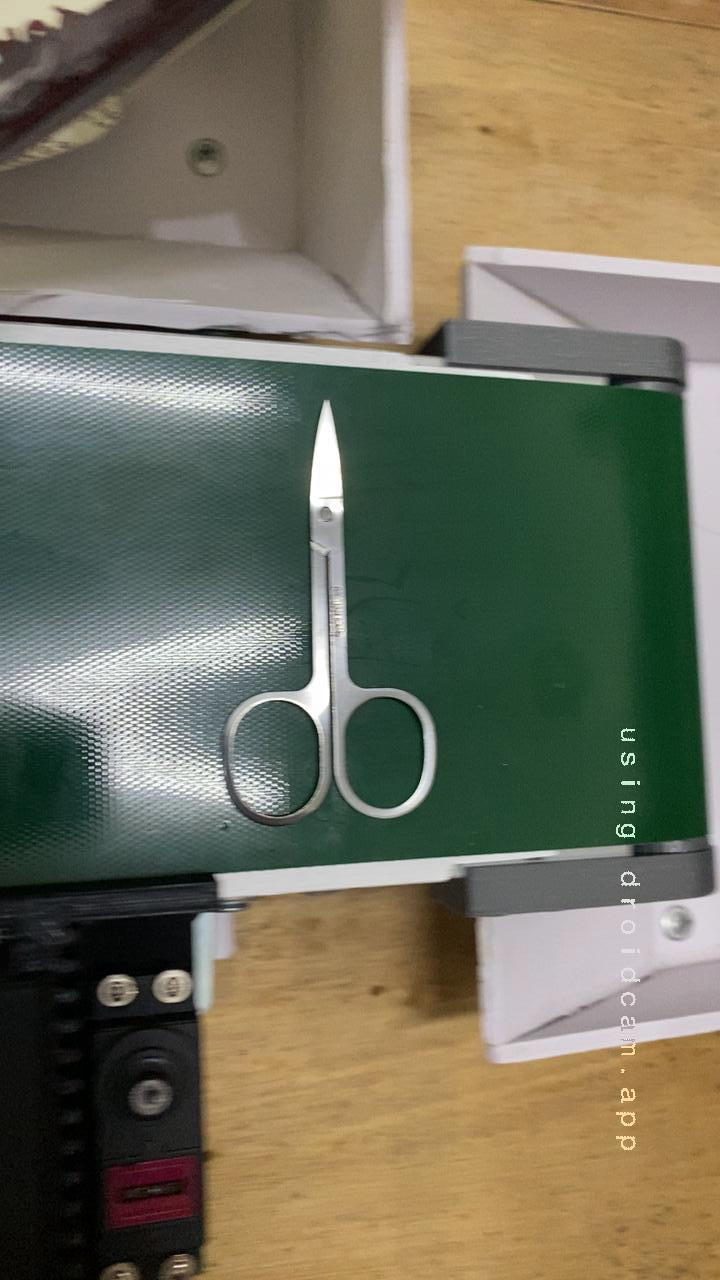scissor: (202, 405, 463, 851)
